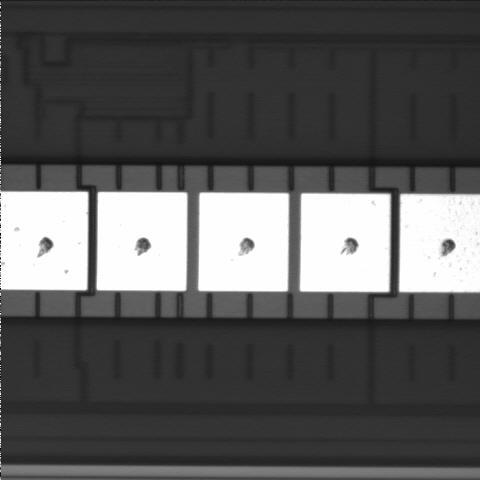pad: (198, 193, 289, 291), (97, 192, 187, 291), (300, 194, 390, 292)
